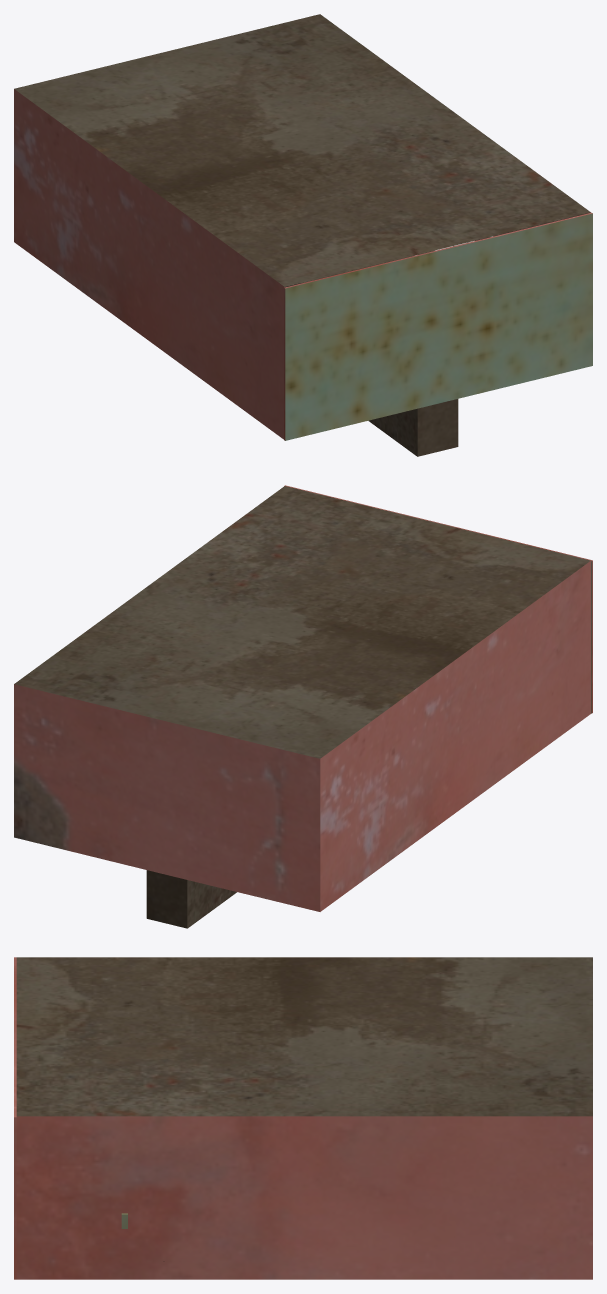
File: garasi 2.fbx
3 views of the same model, one above another, from view 1: azimuth 30°, elevation 25°; view 2: azimuth 150°, elevation 25°; view 3: azimuth 270°, elevation 25° (orthographic). The views are drawn at different scales.
Parts seen in each view (by area): view 1: garasi; view 2: garasi; view 3: garasi.
Boxes of the visible parts, left/top/right/bottom form: garasi: left=14, top=14, right=592, bottom=456; garasi: left=14, top=485, right=592, bottom=928; garasi: left=14, top=957, right=592, bottom=1279.
Bounding box in the file's own units: 897 × 560 × 1365.
Materials: 11 (5 with a texture image).
